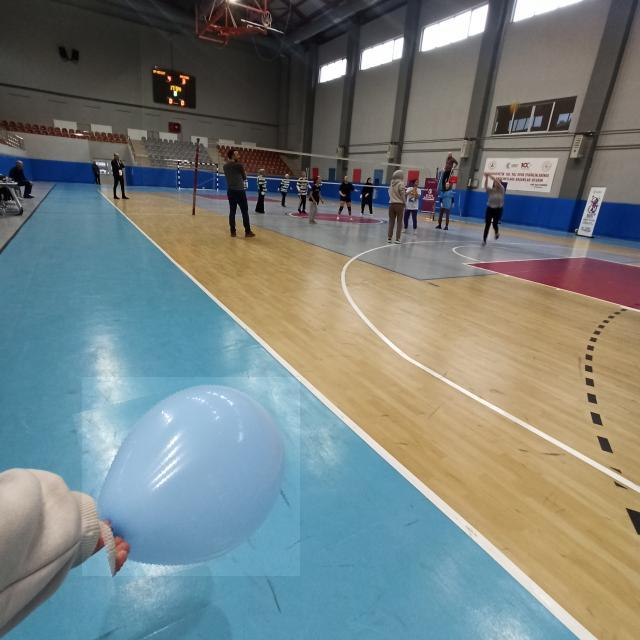balloon: (82, 377, 300, 576)
